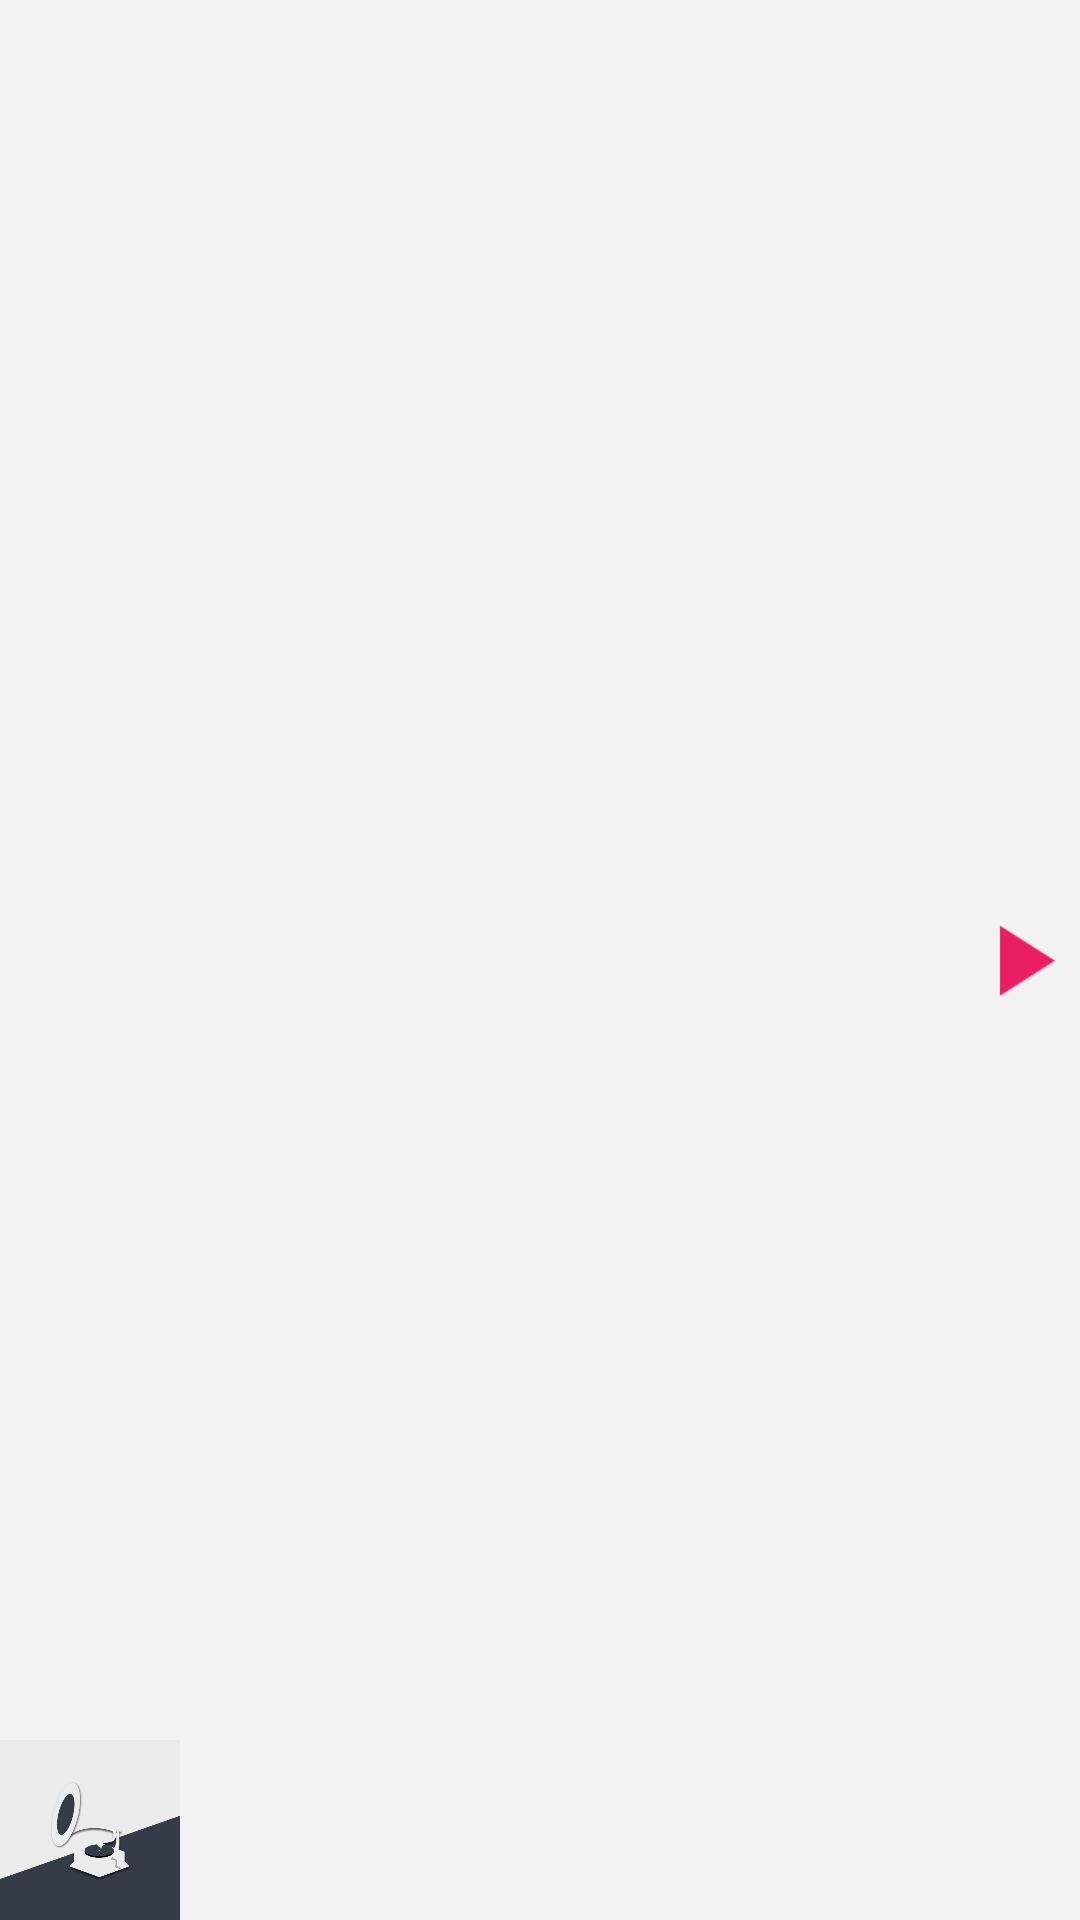

Icons on this 1080 × 1920 Android screen, each with its box as bbox(x1, y1, x2, y2):
album art: bbox(0, 1782, 180, 1920)
play: bbox(1000, 925, 1055, 996)
